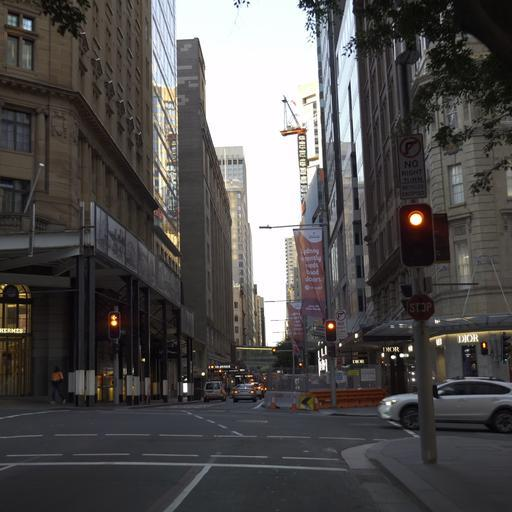Street light: (258, 221, 336, 407), (398, 202, 435, 267), (107, 309, 122, 403), (107, 310, 120, 341), (324, 319, 336, 342)
